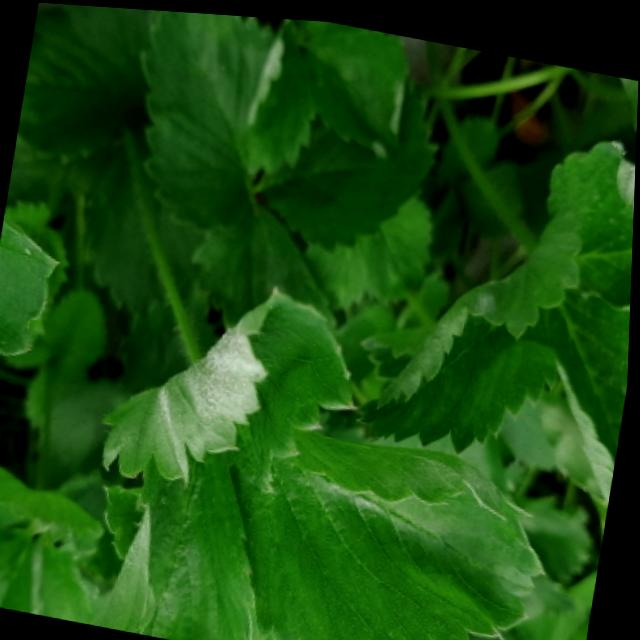Powdery Mildew Leaf: (329, 203, 583, 447), (99, 278, 365, 484), (92, 454, 261, 640), (242, 15, 411, 169), (537, 283, 632, 498), (545, 128, 637, 299), (0, 210, 62, 361)
